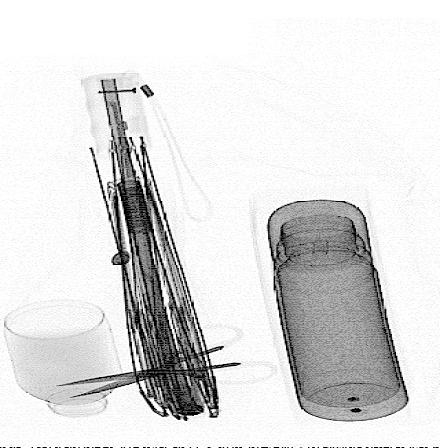Scissors: (52, 323, 281, 400)
